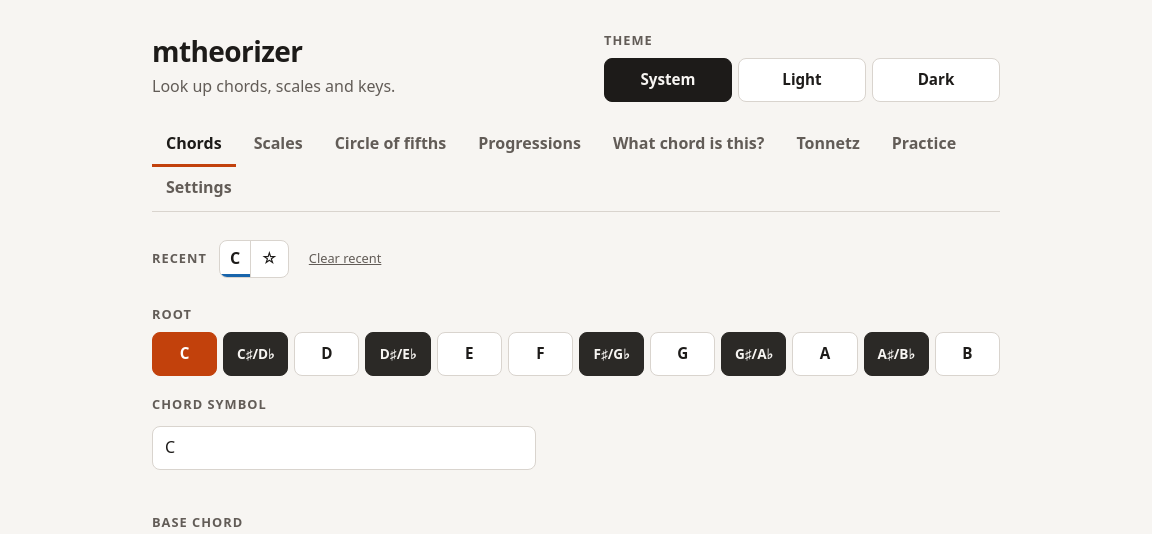
Test case: a custom neck in the app › shows the strings of the setup on the neck and in the link
The image size is (1152, 534).
Click the tab "Settings" at (199, 189), box [152,166,246,212]
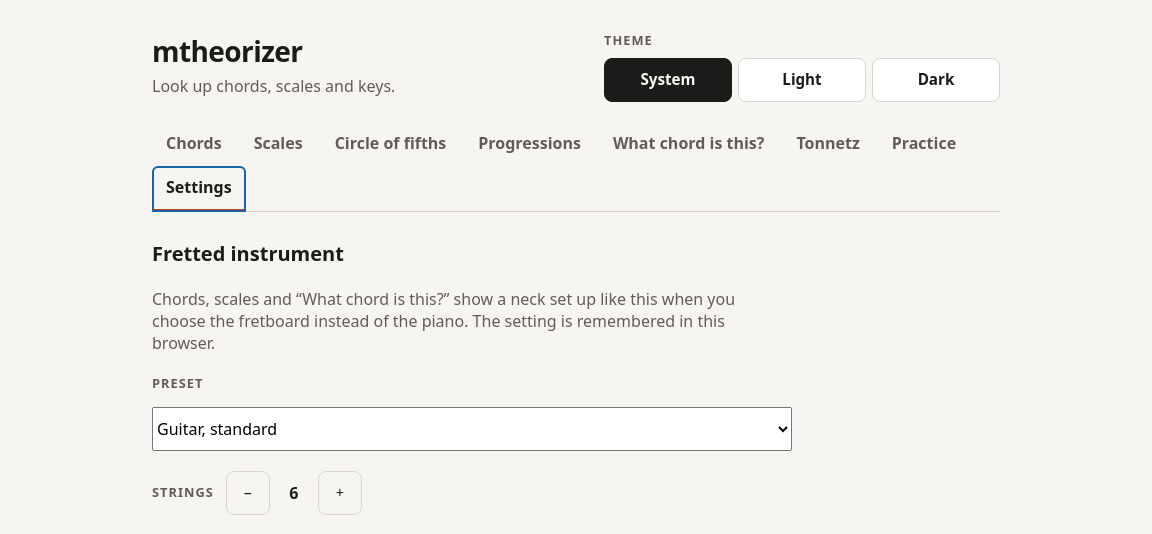
Select "7-string guitar" in the dropdown labelled "Preset" at (472, 429), box [152,407,792,451]
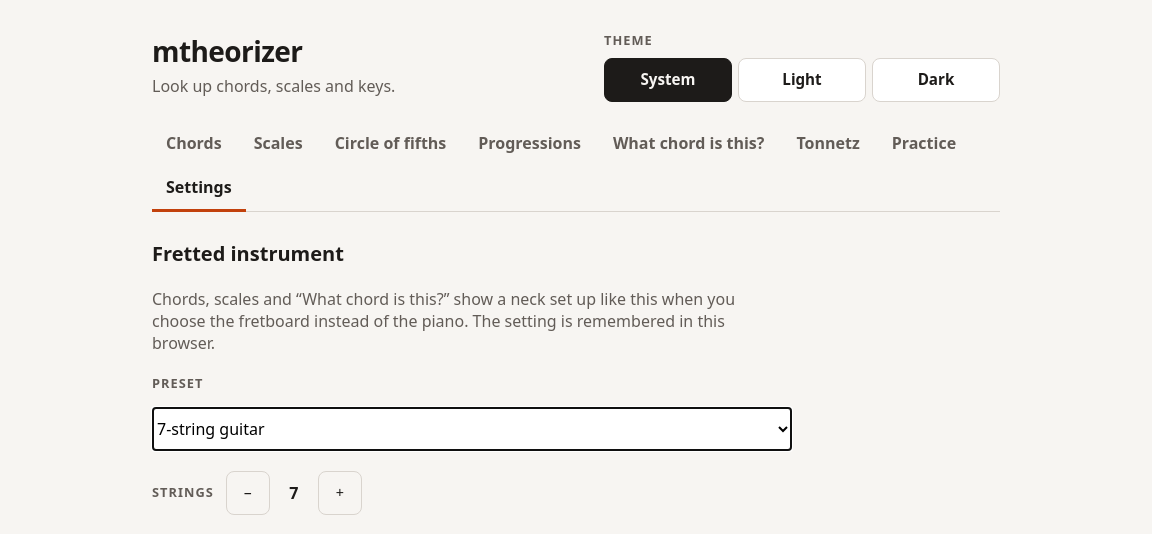
Click the tab "Chords" at (194, 145), box [152,122,236,167]
(page scrolled)
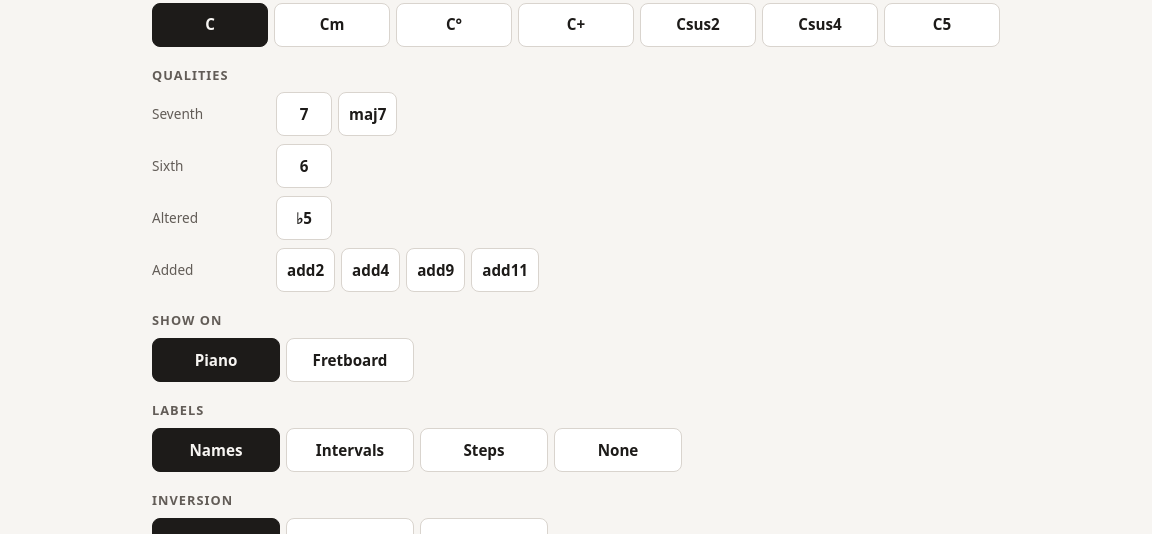
Click the radio button labelled "Fretboard" at (350, 360), box [286,338,414,382]
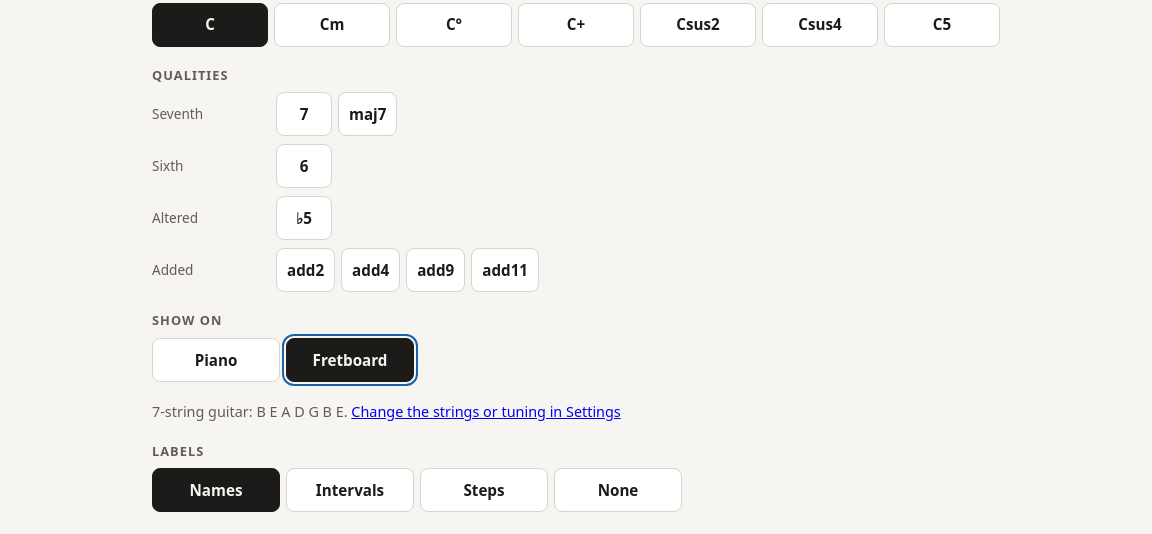
Expected: the text "7-string guitar: B E A D G B E" is shown, [152,402,621,421]
